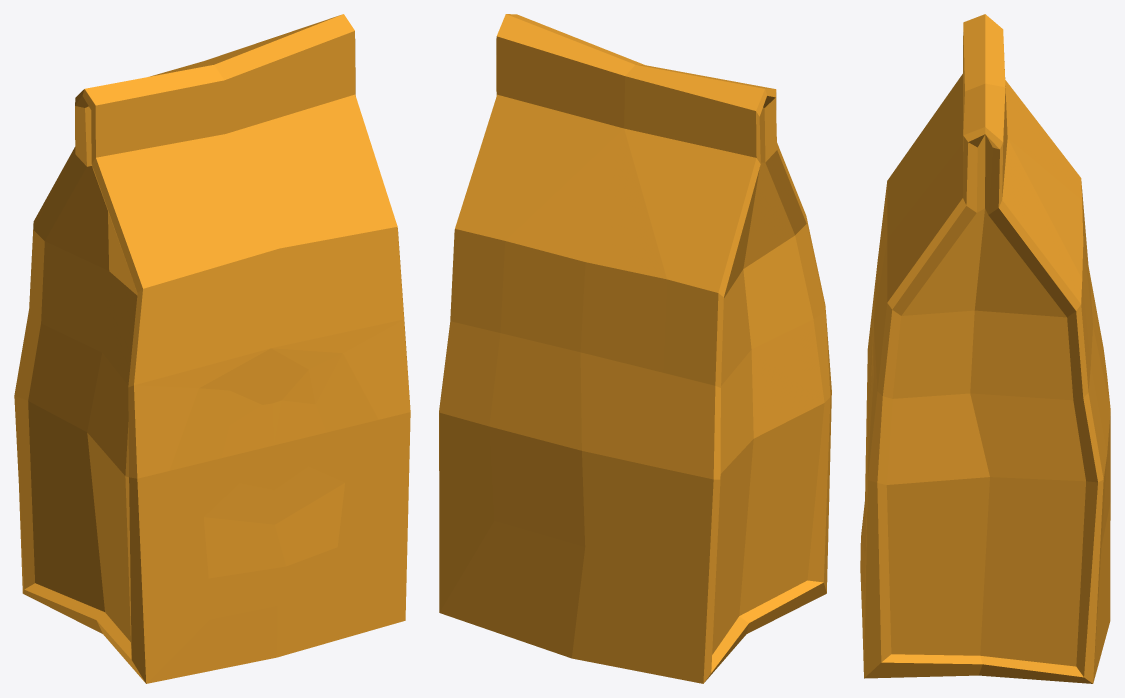
The model's file is SM_Catfood_Bag.fbx.
3 renders of one model, left to right at view 1: azimuth 30°, elevation 25°; view 2: azimuth 150°, elevation 25°; view 3: azimuth 270°, elevation 25°, orthographic.
Visible parts, largest first — view 1: SM_Catfood_Bag; view 2: SM_Catfood_Bag; view 3: SM_Catfood_Bag.
Boxes of the visible parts, left/top/right/bottom form: SM_Catfood_Bag: left=14, top=14, right=410, bottom=683; SM_Catfood_Bag: left=439, top=14, right=831, bottom=683; SM_Catfood_Bag: left=860, top=14, right=1110, bottom=683.
Size of the model in its own units: 0.1829 by 0.3452 by 0.1408.
